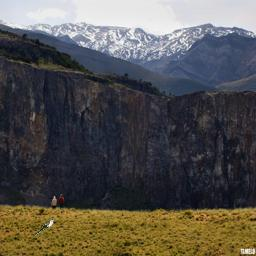Cuckoo: (33, 218, 56, 237)
